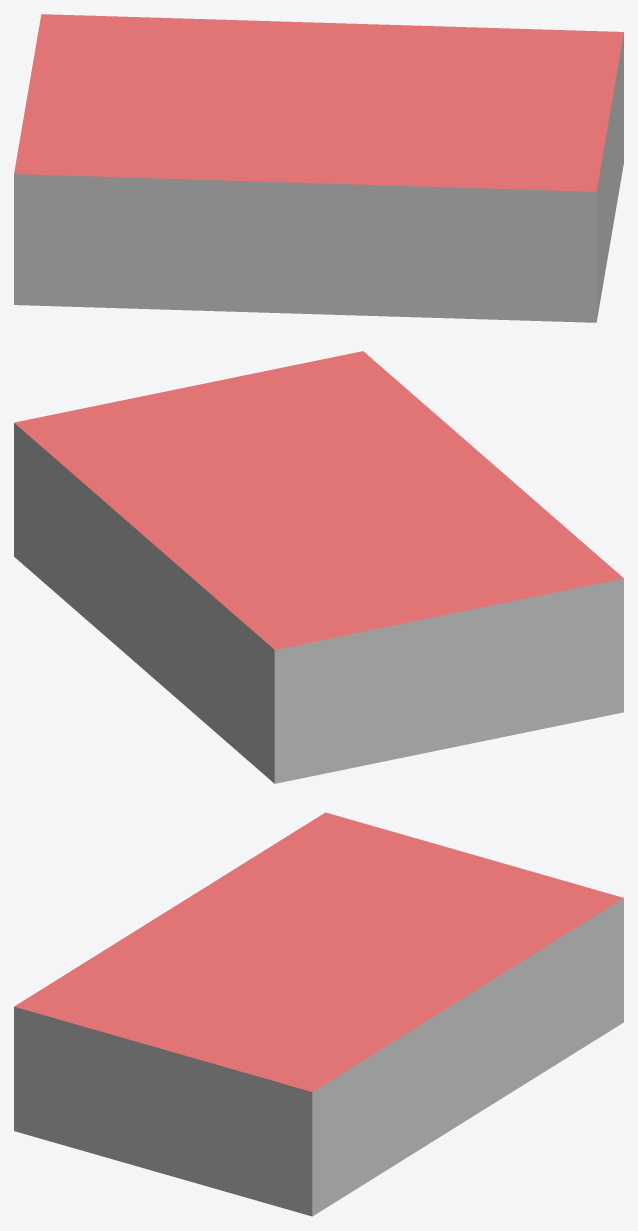
3 renders of one model, top to bottom at view 1: azimuth 30°, elevation 25°; view 2: azimuth 150°, elevation 25°; view 3: azimuth 270°, elevation 25°, orthographic. The views are drawn at different scales.
Parts seen in each view (by area): view 1: Z_UP; view 2: Z_UP; view 3: Z_UP.
Part boxes in pixels (x1,y1,x2,y2): Z_UP: [14, 14, 623, 322]; Z_UP: [14, 351, 623, 783]; Z_UP: [14, 812, 623, 1216].
Bounding box in the file's own units: 19.28 × 4 × 17.77.
